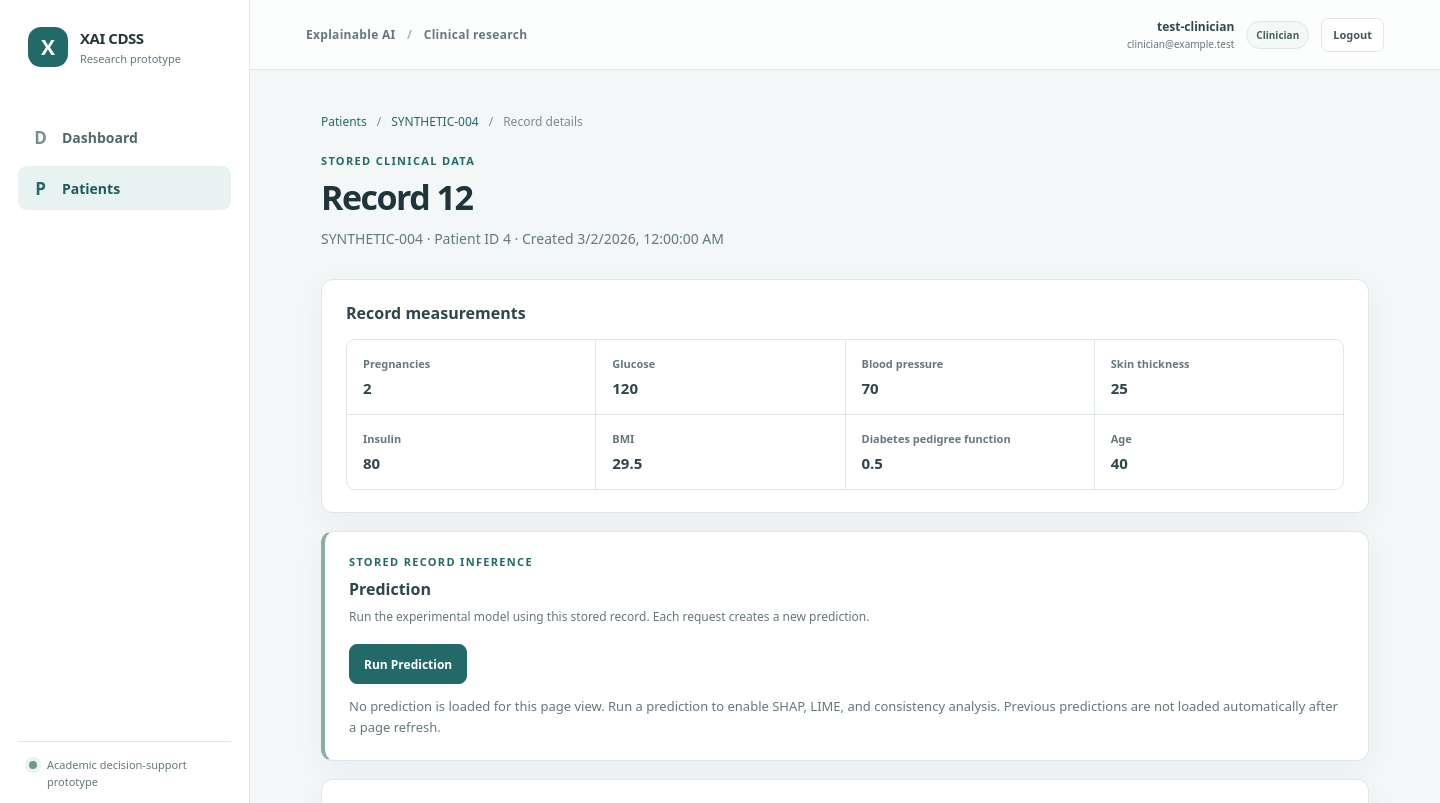
record prediction UI › shows a concise message when the model service is unavailable
The width and height of the screenshot is (1440, 803).
Click the button "Run Prediction". click: (408, 664)
box: [349,644,467,684]
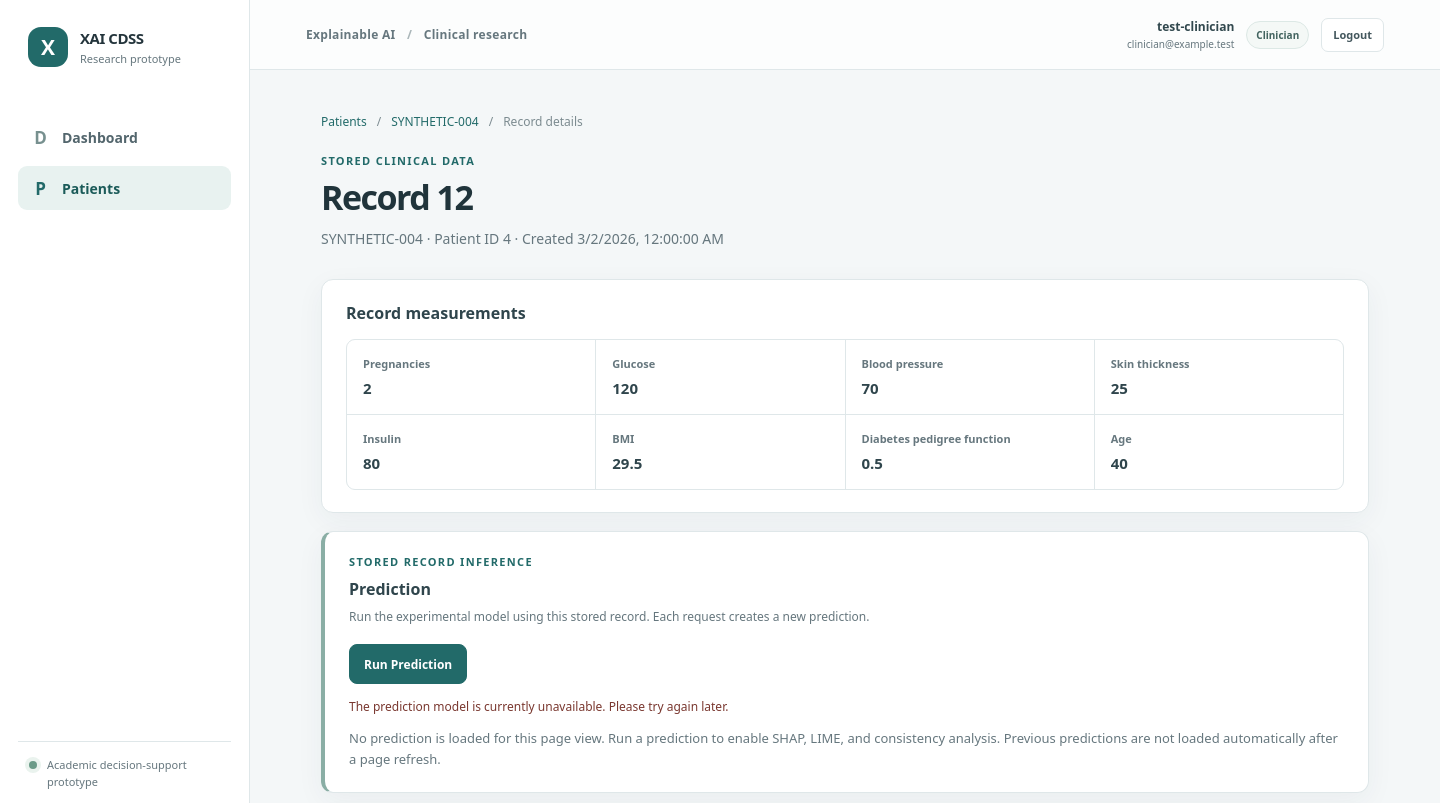
Now the text "The prediction model is currently unavailable. Please try again later." is shown, box [349,698,728,716]
